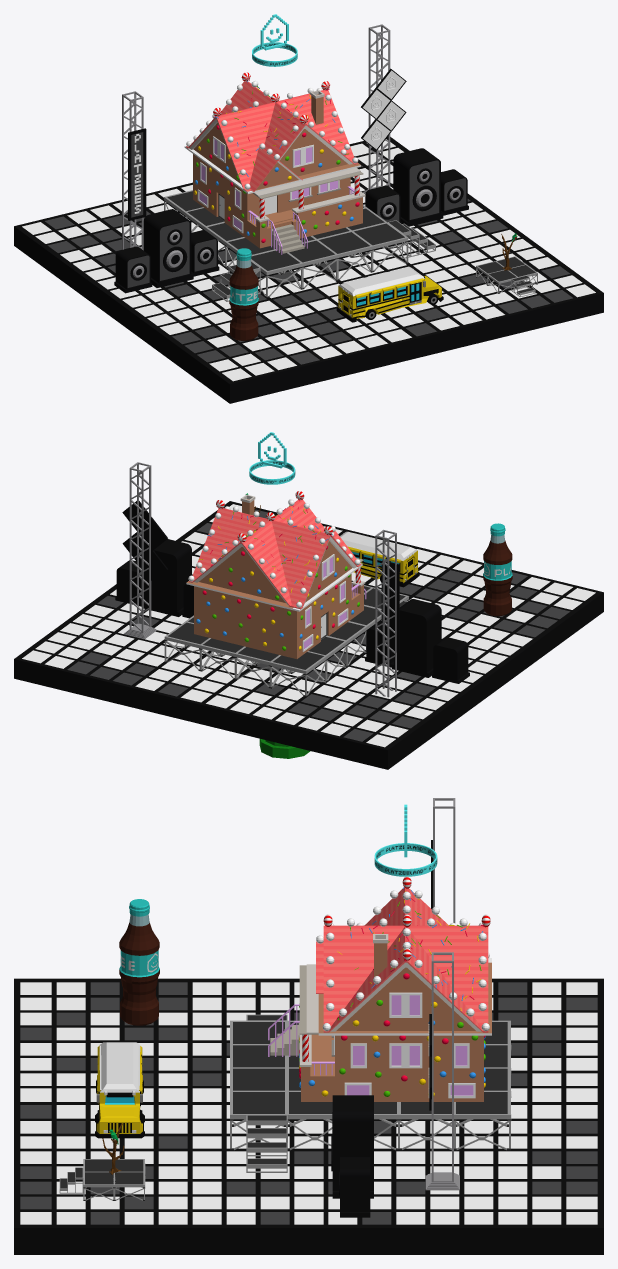
3 renders of one model, top to bottom at view 1: azimuth 30°, elevation 25°; view 2: azimuth 150°, elevation 25°; view 3: azimuth 270°, elevation 25°, orthographic. The views are drawn at different scales.
Parts seen in each view (by area): view 1: Cube.008, Cube.1203, VEHICLES_SCHOOL_BUS, OBJRANDOM_PLATZEECOLA, TYPE_PREMIUM; view 2: Cube.008, Cube.1203, OBJRANDOM_PLATZEECOLA, VEHICLES_SCHOOL_BUS, TYPE_PREMIUM, UNDERGROUND_PIPES; view 3: Cube.008, Cube.1203, VEHICLES_SCHOOL_BUS, OBJRANDOM_PLATZEECOLA, TYPE_PREMIUM.
Part boxes in pixels (<box>): Cube.008: <box>14,24,603,403</box>; Cube.1203: <box>184,72,365,254</box>; VEHICLES_SCHOOL_BUS: <box>336,267,443,322</box>; OBJRANDOM_PLATZEECOLA: <box>229,248,258,340</box>; TYPE_PREMIUM: <box>252,14,297,66</box>; Cube.008: <box>14,462,603,769</box>; Cube.1203: <box>186,491,366,658</box>; OBJRANDOM_PLATZEECOLA: <box>483,523,512,616</box>; VEHICLES_SCHOOL_BUS: <box>339,531,419,587</box>; TYPE_PREMIUM: <box>249,432,295,484</box>; UNDERGROUND_PIPES: <box>259,738,310,758</box>; Cube.008: <box>14,798,603,1254</box>; Cube.1203: <box>268,876,491,1101</box>; VEHICLES_SCHOOL_BUS: <box>95,1042,144,1138</box>; OBJRANDOM_PLATZEECOLA: <box>119,899,159,1025</box>; TYPE_PREMIUM: <box>374,804,437,876</box>.
Size of the model in its own units: 4000 by 3095 by 4000.
51 materials, 3 textured.
